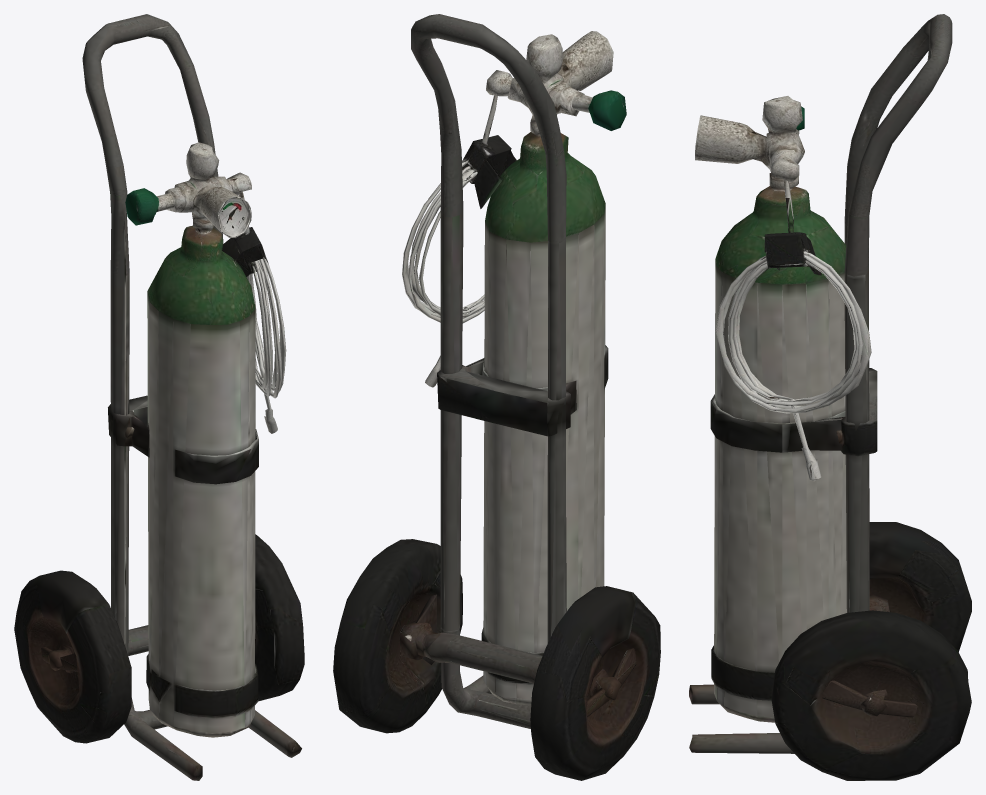
The model's file is p7-oxygen-cart-t25.glb.
3 views of the same model, side by side, from view 1: azimuth 30°, elevation 25°; view 2: azimuth 150°, elevation 25°; view 3: azimuth 270°, elevation 25° (orthographic). The views are drawn at different scales.
Visible parts, largest first — view 1: p7-oxygen-cart-t25; view 2: p7-oxygen-cart-t25; view 3: p7-oxygen-cart-t25.
Part boxes in pixels (x1=…): p7-oxygen-cart-t25: x1=14, y1=14, x2=304, y2=780; p7-oxygen-cart-t25: x1=333, y1=14, x2=660, y2=780; p7-oxygen-cart-t25: x1=689, y1=14, x2=971, y2=780.
Size of the model in its own units: 0.389 by 1.15 by 0.415.
Materials: 1 (1 with a texture image).
